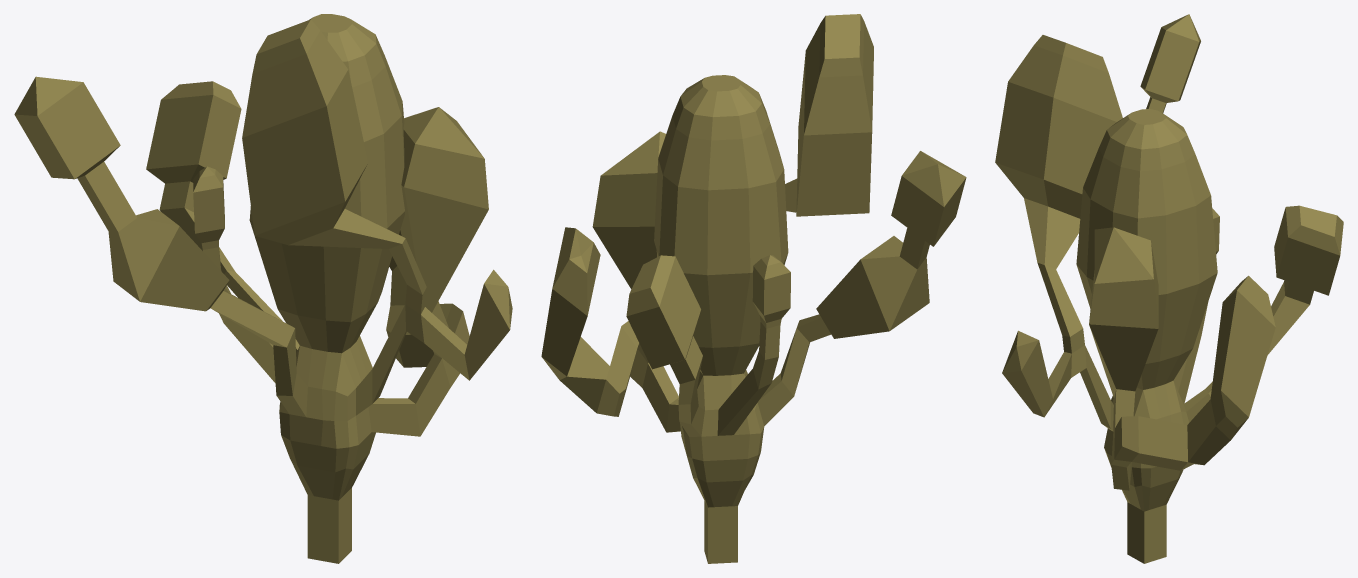
Rendered from S0.Cactus2.glb.
The picture shows the model from 3 angles, left to right: view 1: azimuth 30°, elevation 25°; view 2: azimuth 150°, elevation 25°; view 3: azimuth 270°, elevation 25°; orthographic projection. The views are drawn at different scales.
Parts seen in each view (by area): view 1: Cube.002; view 2: Cube.002; view 3: Cube.002.
Boxes of the visible parts, x1,y1,x2,y2 form: Cube.002: (14, 14, 512, 563); Cube.002: (541, 14, 966, 563); Cube.002: (995, 14, 1343, 563).
Size of the model in its own units: 5.86 by 7.66 by 4.98.
